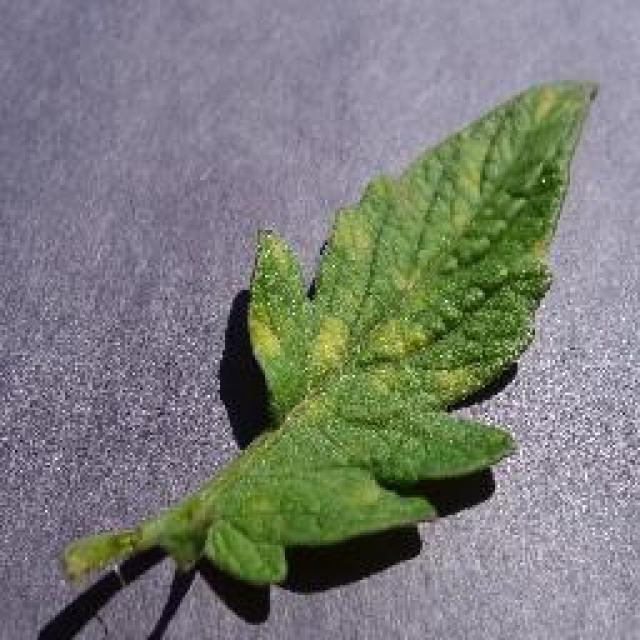Tomato mold leaf: (167, 77, 595, 586)
